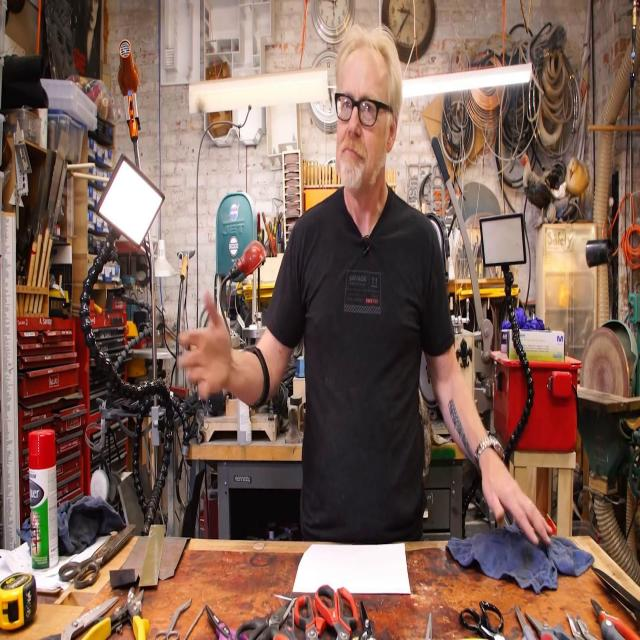scissor: (58, 524, 136, 589), (235, 599, 294, 640), (315, 584, 358, 640), (460, 601, 505, 640), (294, 595, 331, 640), (206, 604, 248, 640), (156, 599, 192, 640), (525, 611, 575, 640), (353, 600, 377, 640), (273, 606, 298, 640), (515, 603, 536, 640)
